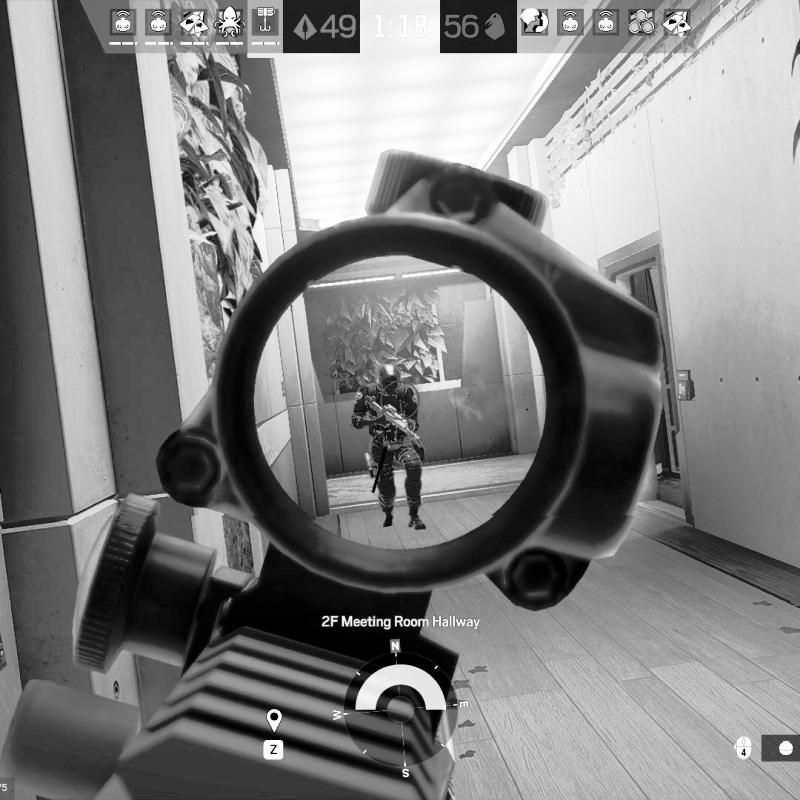Character: (349, 363, 428, 532)
Head: (378, 364, 402, 393)
